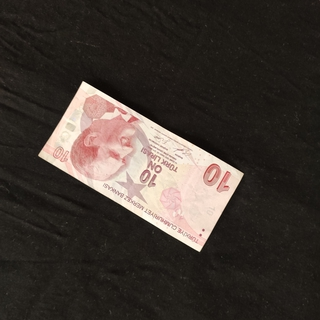10TLFront: (36, 80, 245, 253)
